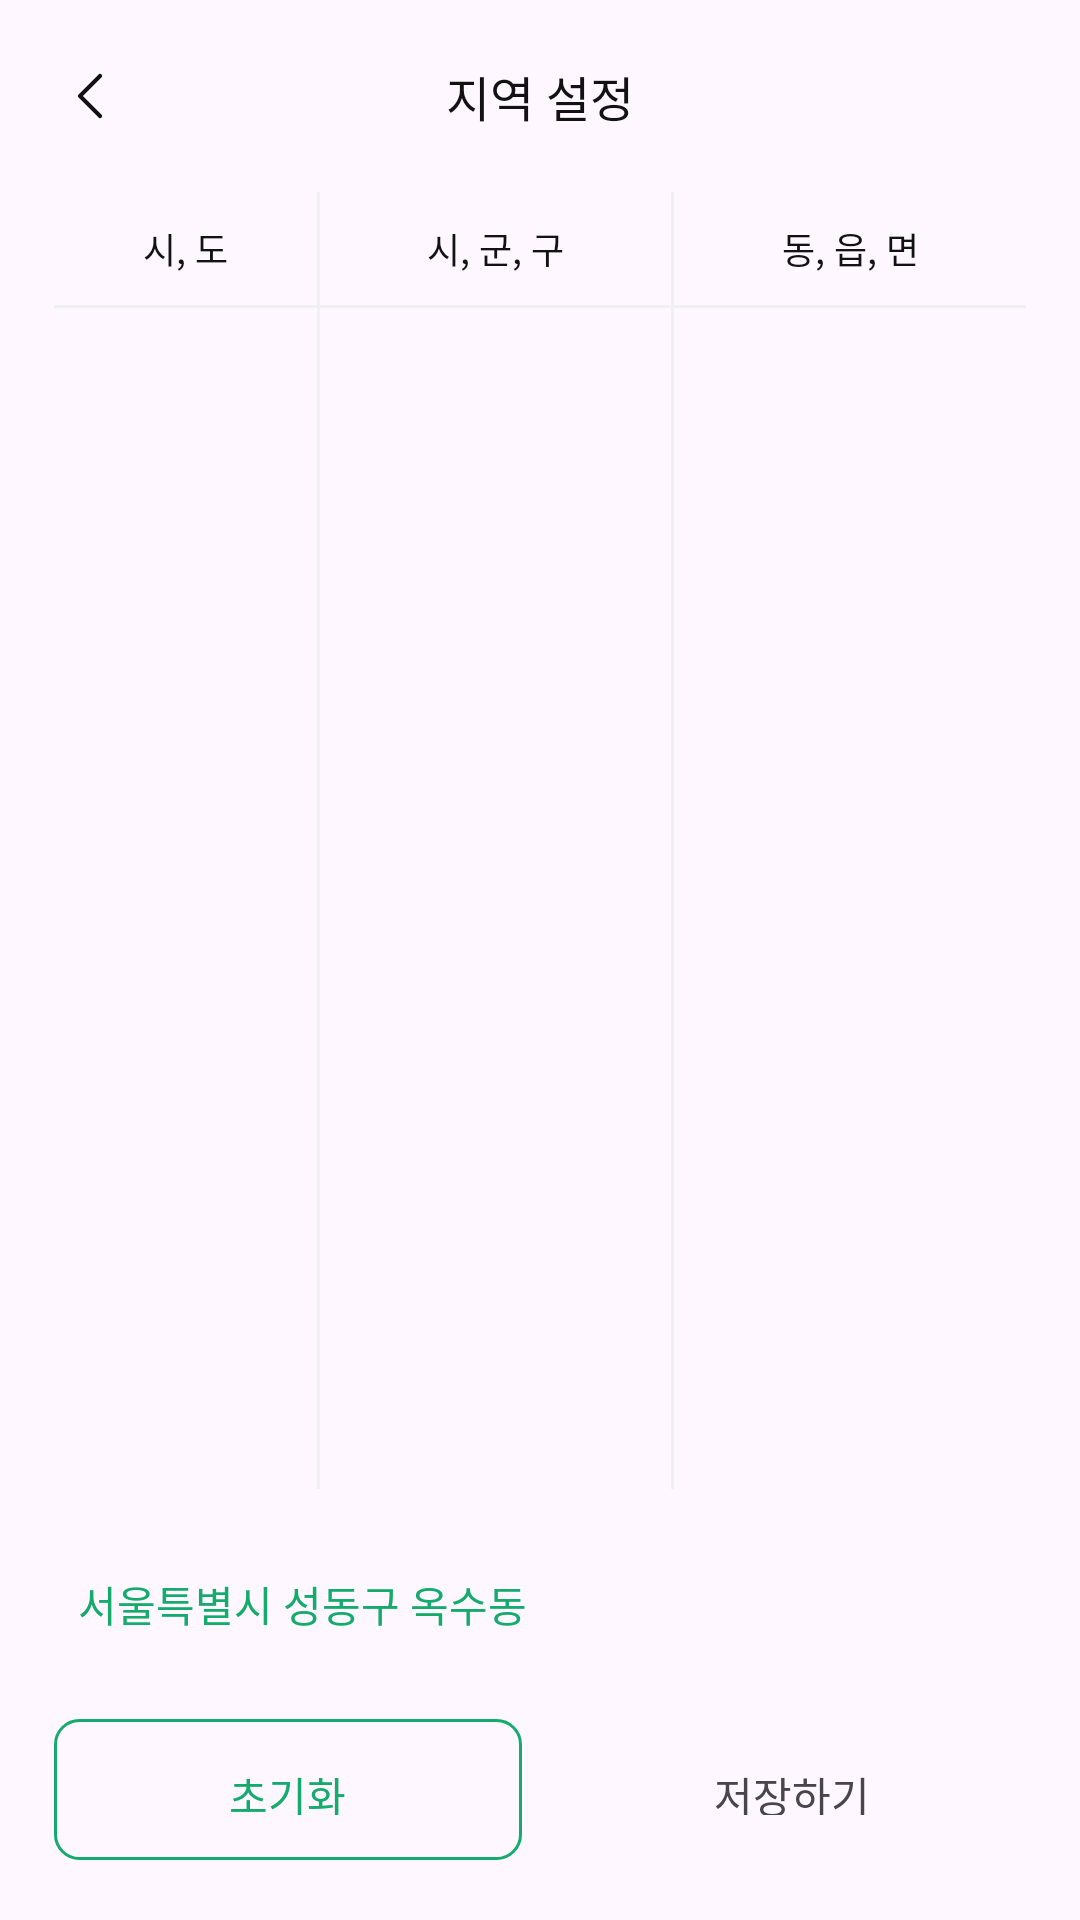

Screen size 1080w x 1920h. Icon name, then its center in pixels as point (x, y):
left arrow: point (90, 96)
